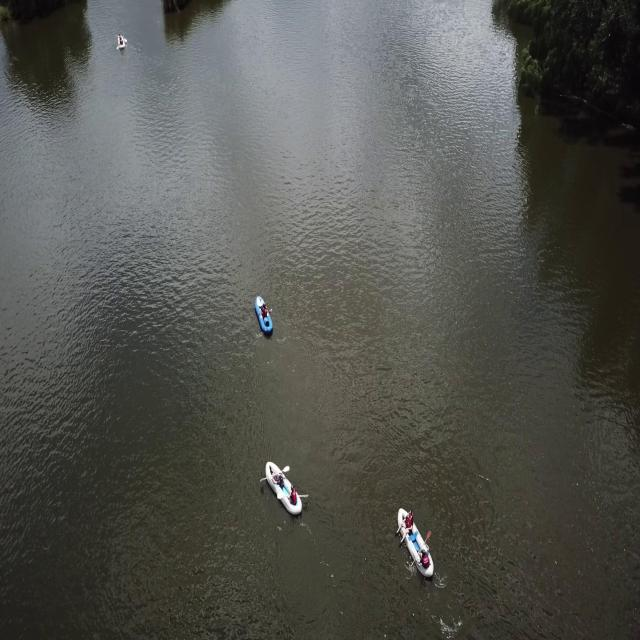kayak: (394, 508, 439, 584), (264, 457, 308, 525), (253, 291, 276, 343), (115, 27, 128, 55)
